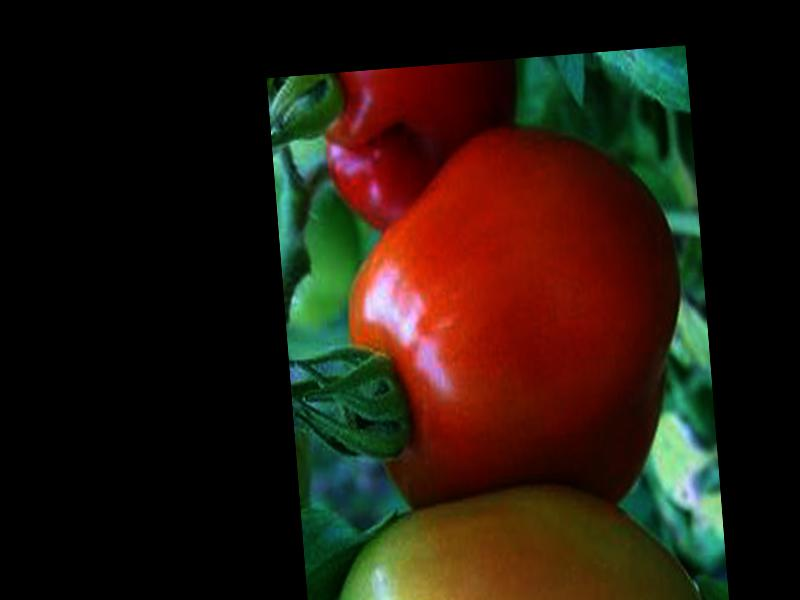Tomato: (334, 113, 694, 504)
